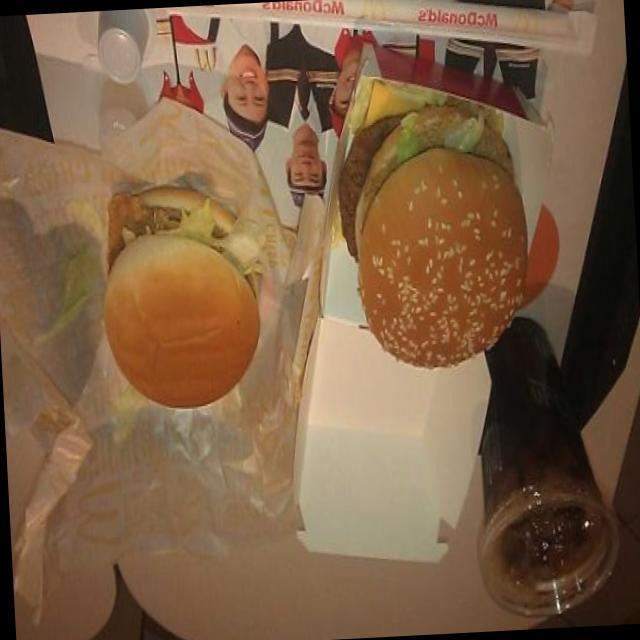Hamburger: (326, 75, 543, 397), (92, 174, 276, 432)
